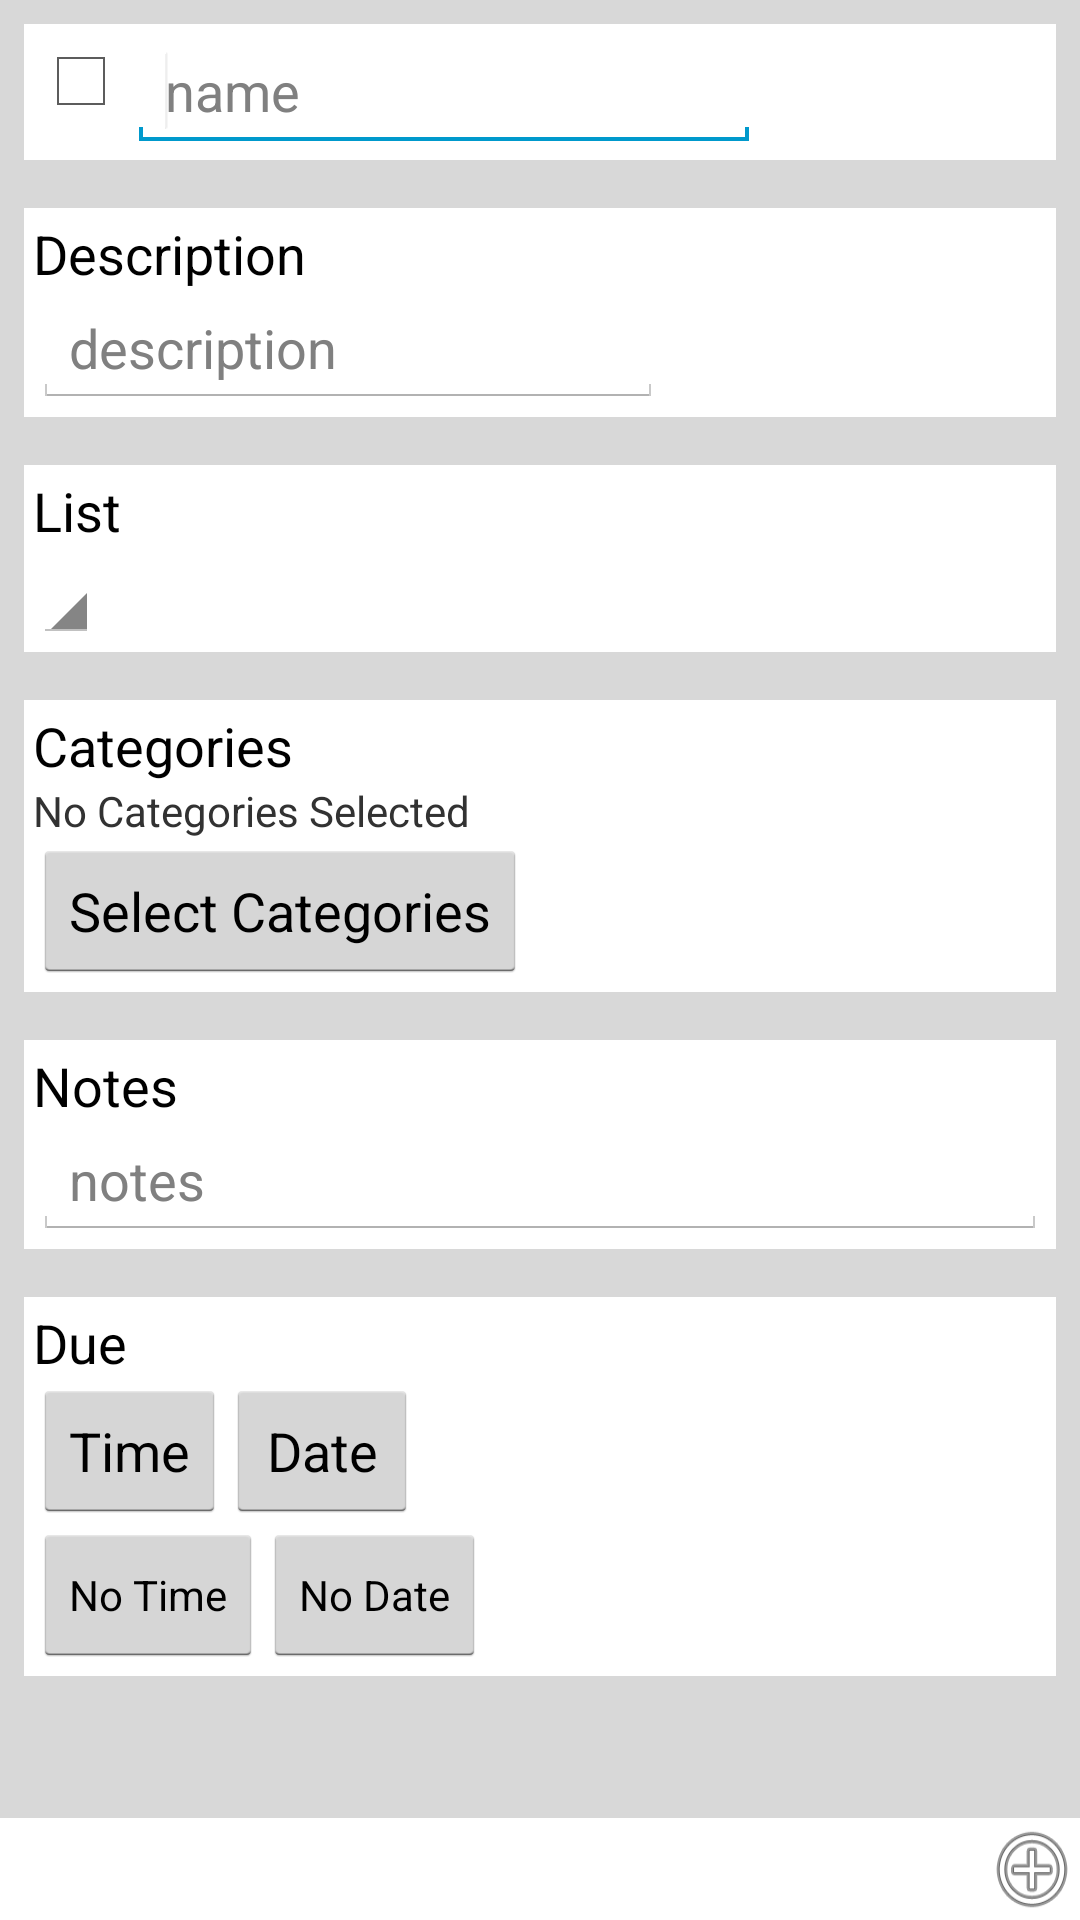

Icons on this 1080px×1920px Android screen, each with the point to tap as [x,y]:
Add Item: [1032,1869]
